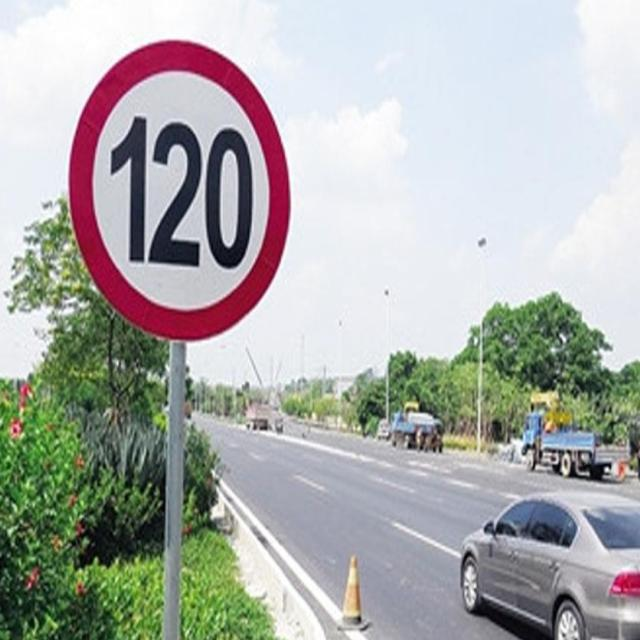speed limit 120: (69, 37, 292, 341)
